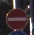No entry: (5, 6, 29, 30)
